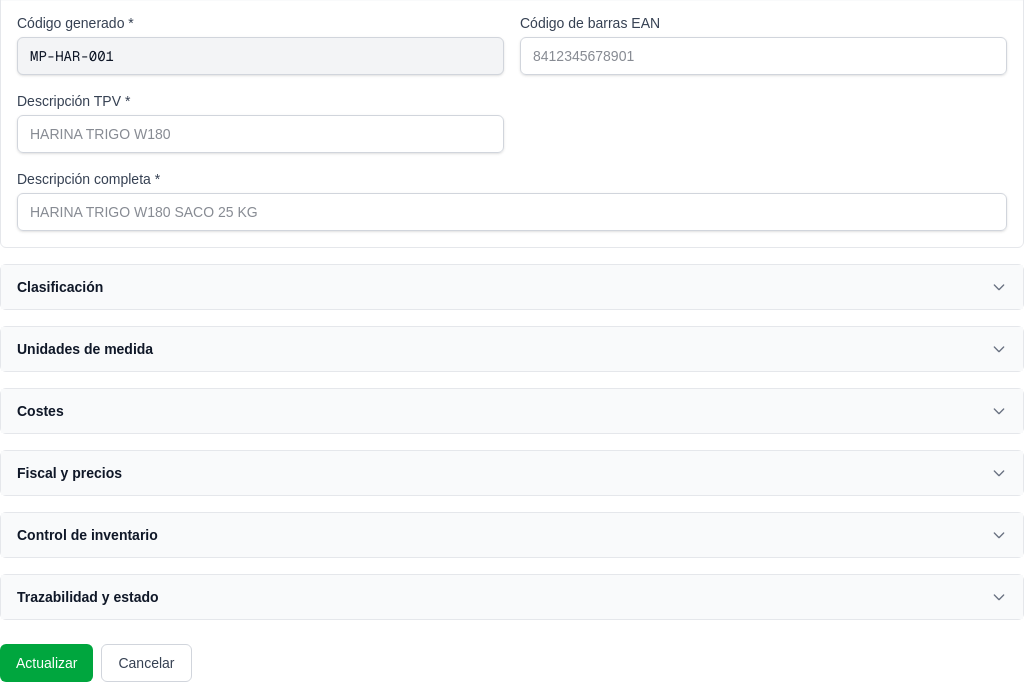
it: ProductForm pricing calculations › leaves only the sale price as an editable PVP field
The width and height of the screenshot is (1024, 690).
Click the button "Fiscal y precios".
click(70, 473)  # box x1=1 y1=451 x2=1023 y2=495
(page scrolled)
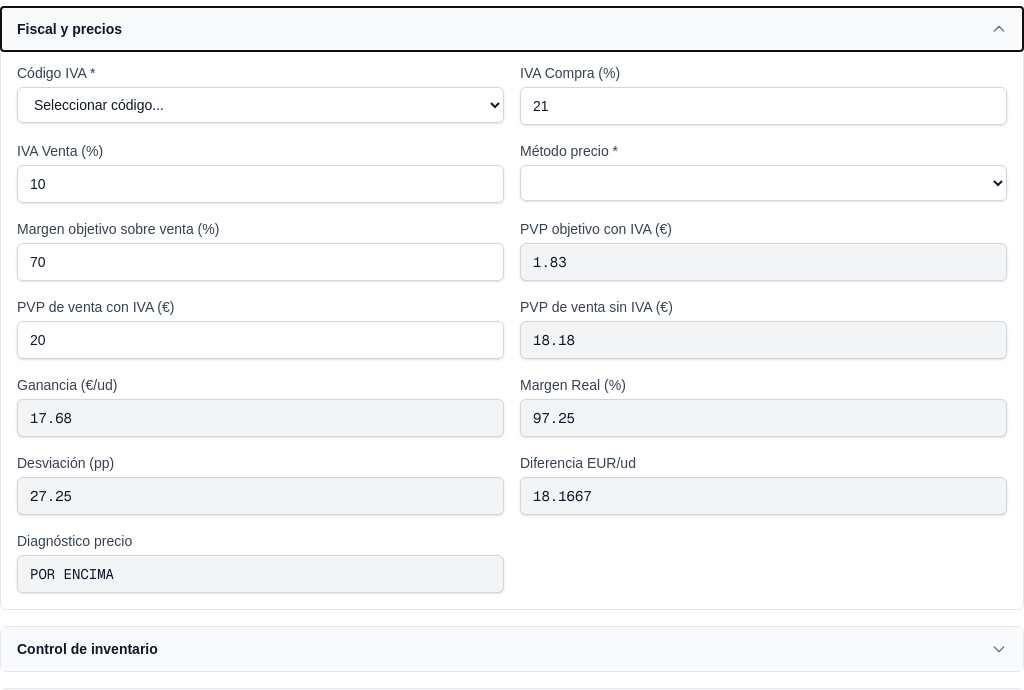
Expected: the number field named "appliedRetailPriceIncludingVat" below "PVP de venta con IVA (€)" is shown, x1=17 y1=321 x2=504 y2=359
